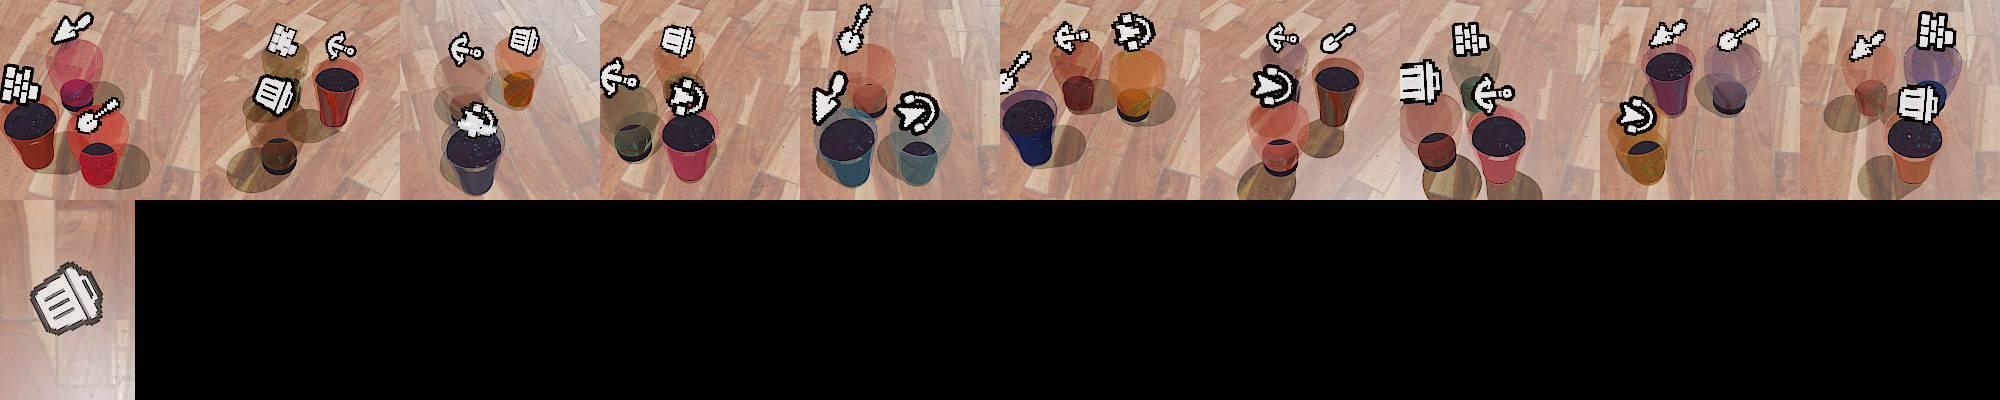icon: (28, 256, 114, 338), (811, 69, 851, 125), (1250, 64, 1297, 110), (895, 90, 940, 136), (1469, 73, 1517, 116), (253, 74, 298, 117), (1110, 11, 1156, 55), (1895, 83, 1943, 125), (835, 3, 872, 56), (663, 75, 708, 118), (1401, 59, 1443, 104), (0, 64, 42, 107), (455, 99, 500, 139), (599, 56, 640, 98), (78, 96, 122, 134), (1616, 96, 1657, 136), (1716, 17, 1761, 52), (50, 10, 94, 46), (999, 48, 1033, 94), (1917, 11, 1955, 52), (1051, 19, 1092, 56), (448, 31, 486, 69), (1648, 17, 1690, 50), (659, 23, 698, 59), (265, 22, 301, 60), (1452, 20, 1490, 56), (1848, 28, 1888, 61), (506, 24, 542, 59), (1320, 22, 1356, 56), (1267, 20, 1300, 54), (324, 29, 357, 62)
